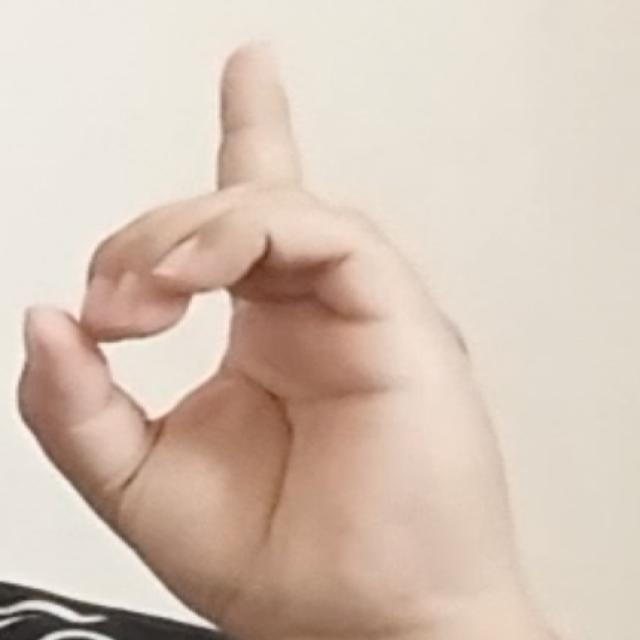D: (12, 39, 529, 612)
